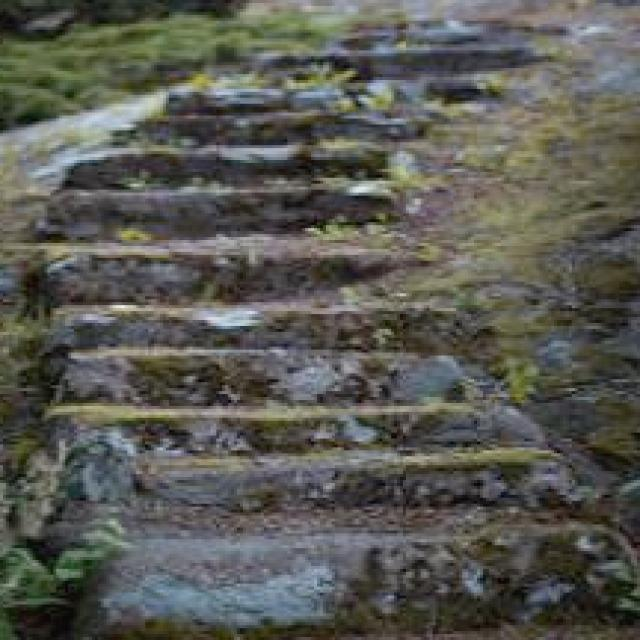upstair: (78, 170, 546, 617)
